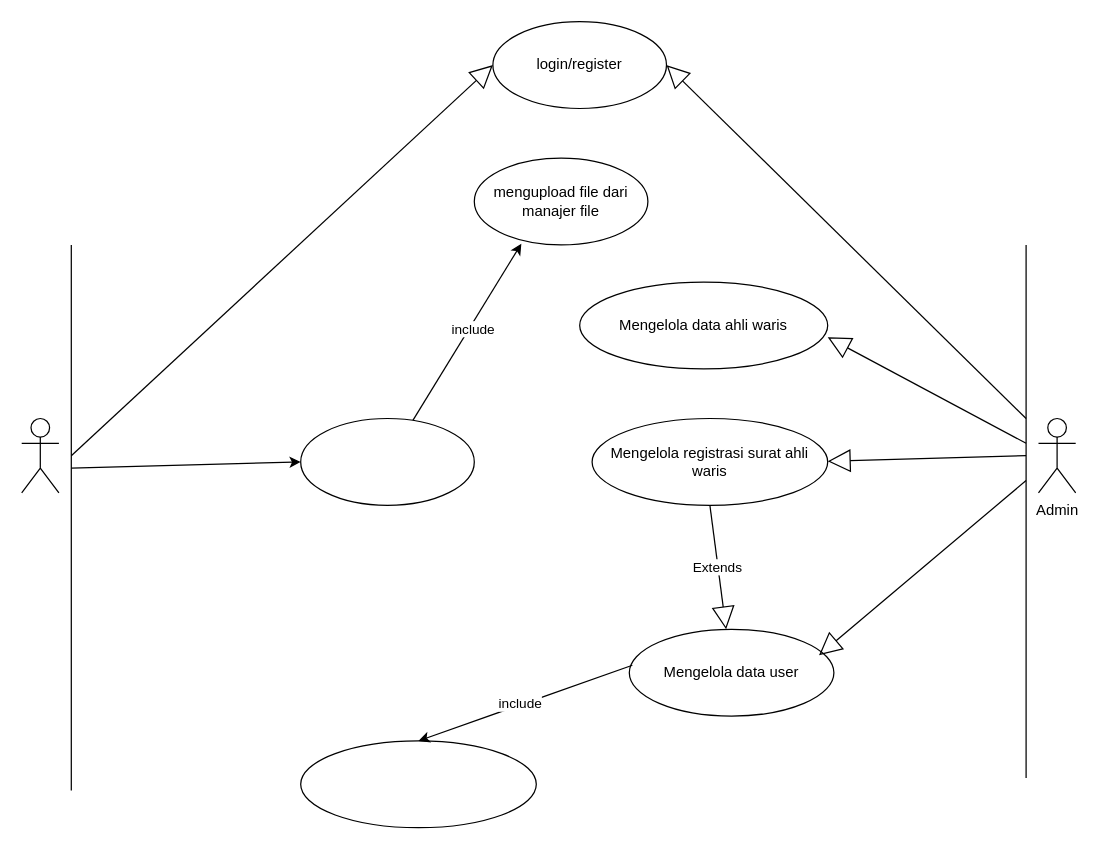
The diagram is 1100 pixels wide and 849 high, and some of its shapes have lost their labels. Each missing label, with the box of its shape:
mengedit role dari user ke admin atau sebaliknya: (299, 740, 536, 828)
mengisi data ahli waris: (299, 417, 474, 505)
user: (20, 417, 59, 493)
